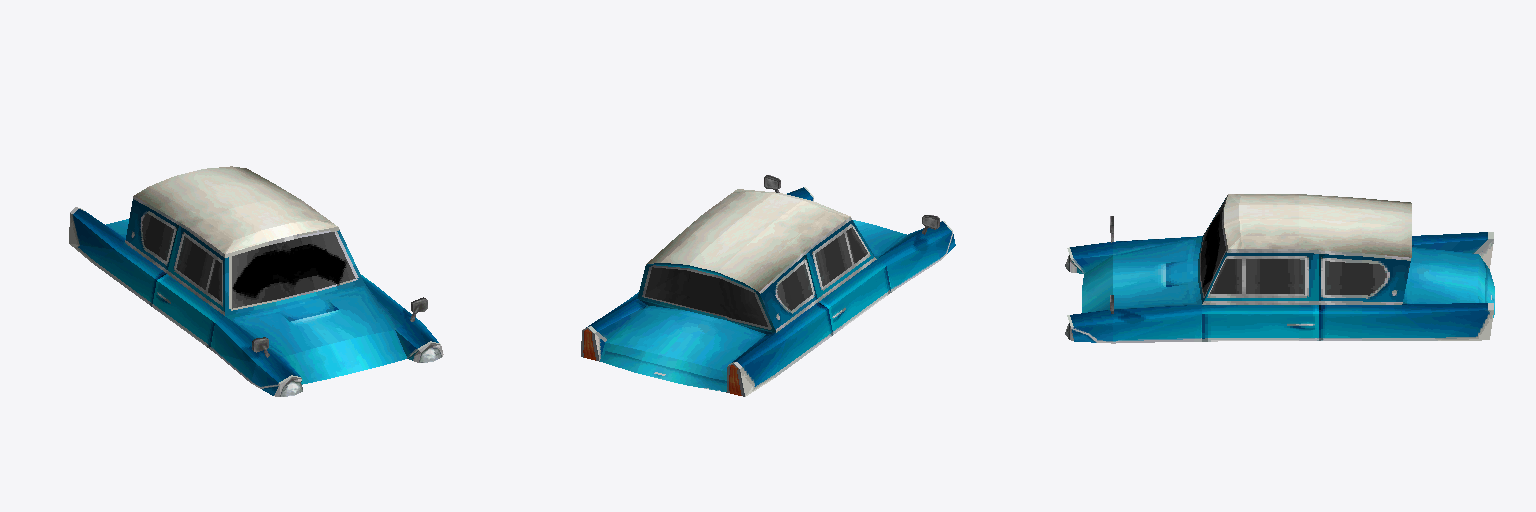
The picture shows the model from 3 angles: view 1: azimuth 30°, elevation 25°; view 2: azimuth 150°, elevation 25°; view 3: azimuth 270°, elevation 25°; orthographic projection.
Parts seen in each view (by area): view 1: T1L1M003_0; view 2: T1L1M003_0; view 3: T1L1M003_0.
Part boxes in pixels (left/top/right/bottom): T1L1M003_0: left=69, top=166, right=443, bottom=396; T1L1M003_0: left=581, top=175, right=955, bottom=396; T1L1M003_0: left=1065, top=194, right=1494, bottom=343.
Size of the model in its own units: 2.12 by 1.01 by 4.46.
Materials: 1 (1 with a texture image).